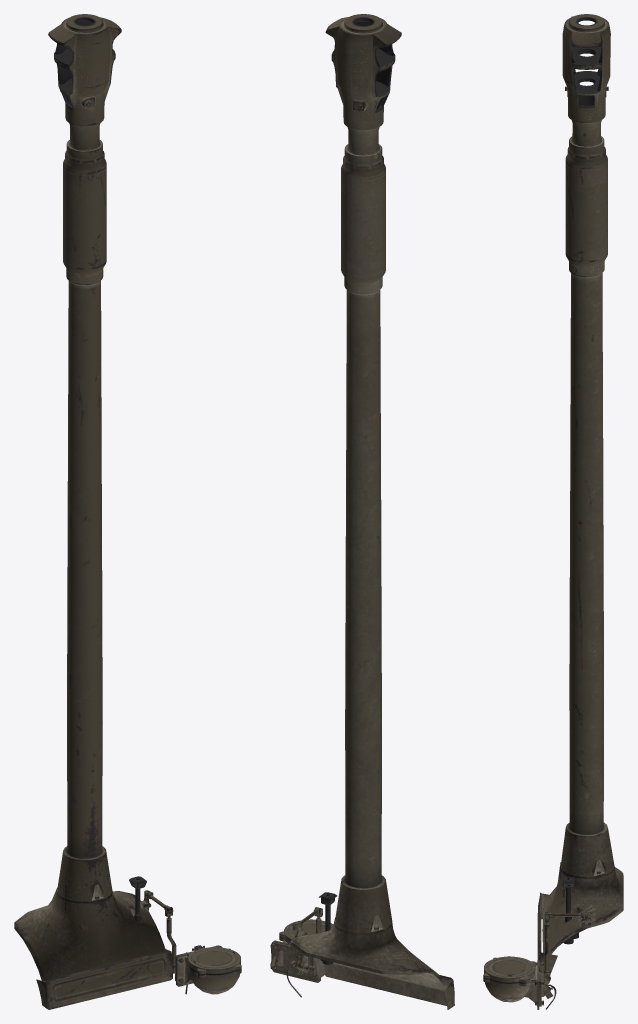
Rendered from Gun_01.glb.
3 views of the same model, side by side, from view 1: azimuth 30°, elevation 25°; view 2: azimuth 150°, elevation 25°; view 3: azimuth 270°, elevation 25° (orthographic). The views are drawn at different scales.
Visible parts, largest first — view 1: set_0_group_0; view 2: set_0_group_0; view 3: set_0_group_0.
Boxes of the visible parts, <box> form: set_0_group_0: <box>14,14,241,1009</box>; set_0_group_0: <box>270,14,454,1009</box>; set_0_group_0: <box>483,14,623,1009</box>.
Size of the model in its own units: 1.3 by 6.85 by 0.9166.
1 material, 1 textured.
